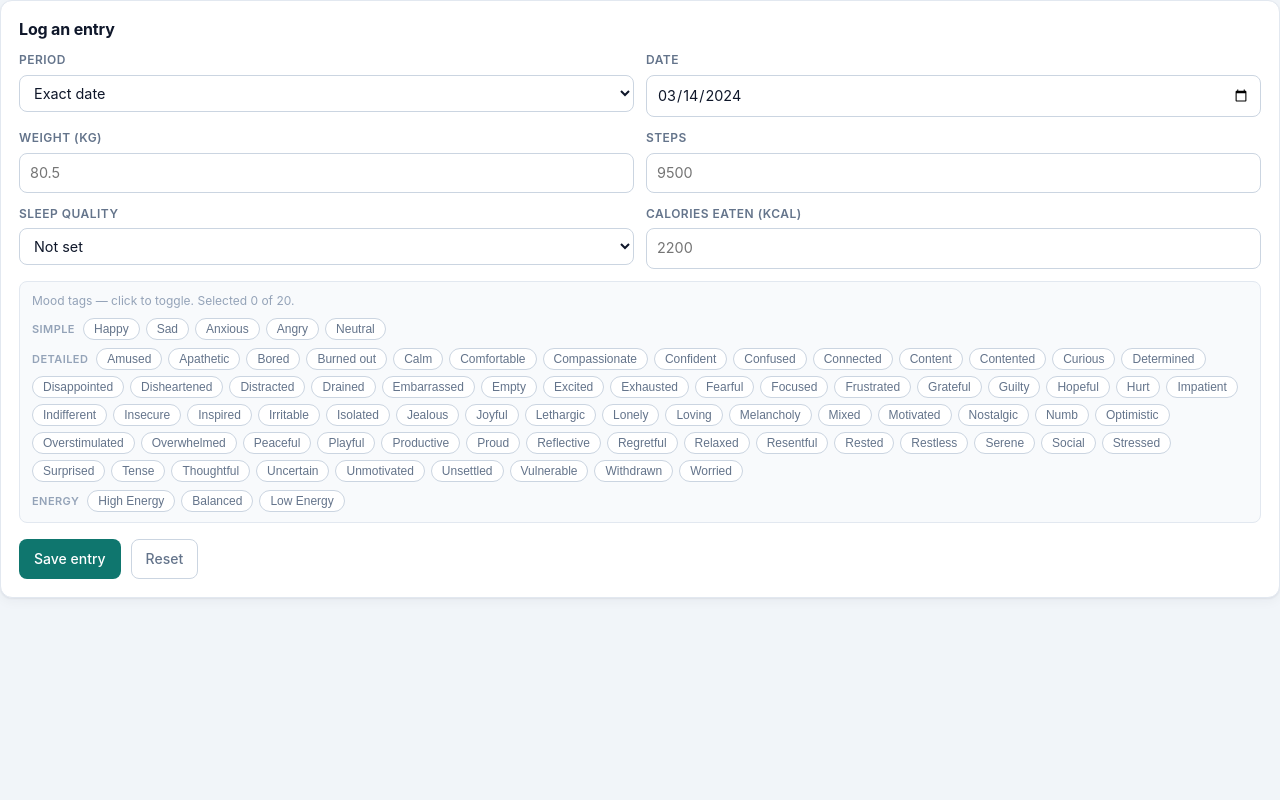
Test: EntryForm › rejects out-of-range values
The width and height of the screenshot is (1280, 800).
Type "250000" into the number field labelled "Steps" at (954, 173), box [646,152,1261,193]
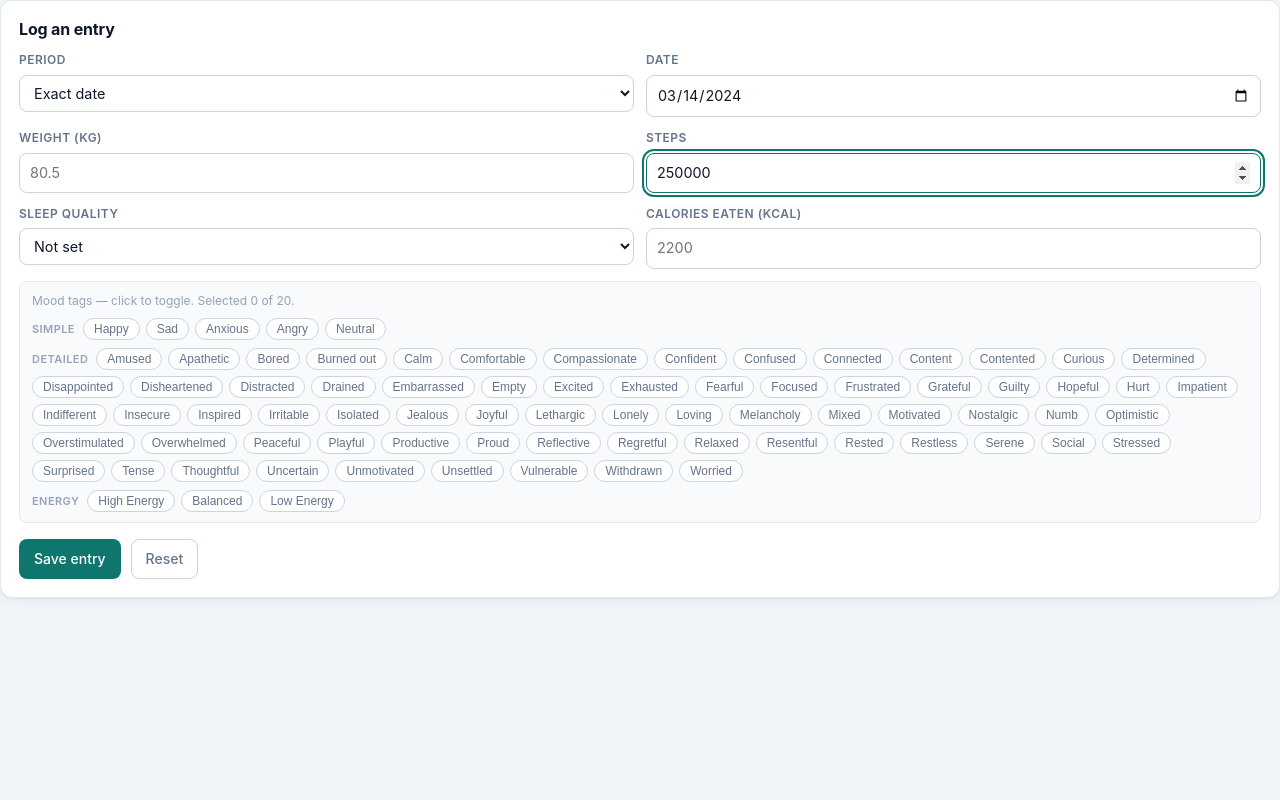
Click the button "Save entry" at (70, 559), box [19,539,121,579]
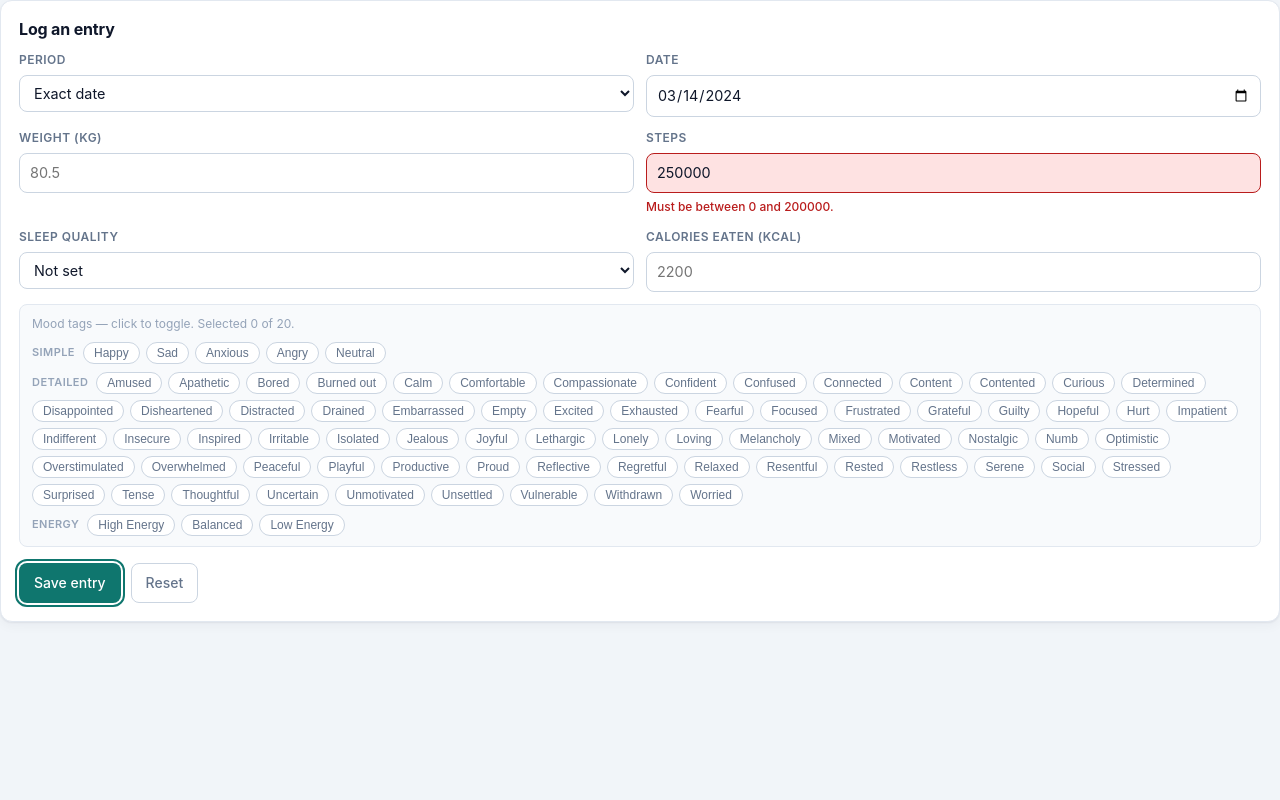
Expected: the text "Must be between 0 and 200000." is shown, [646,199,834,214]
